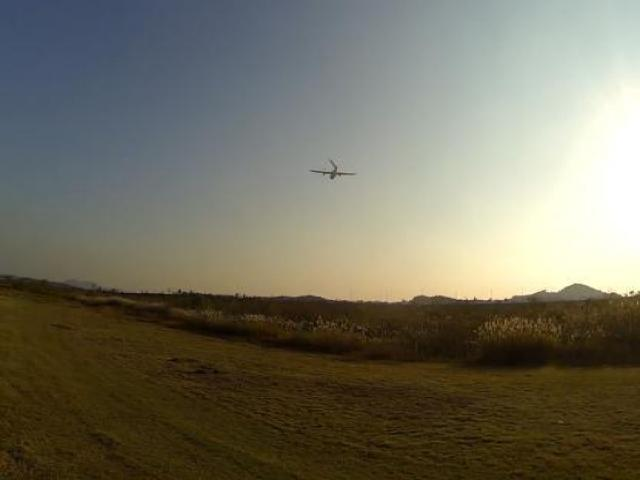uav: (305, 150, 363, 190)
